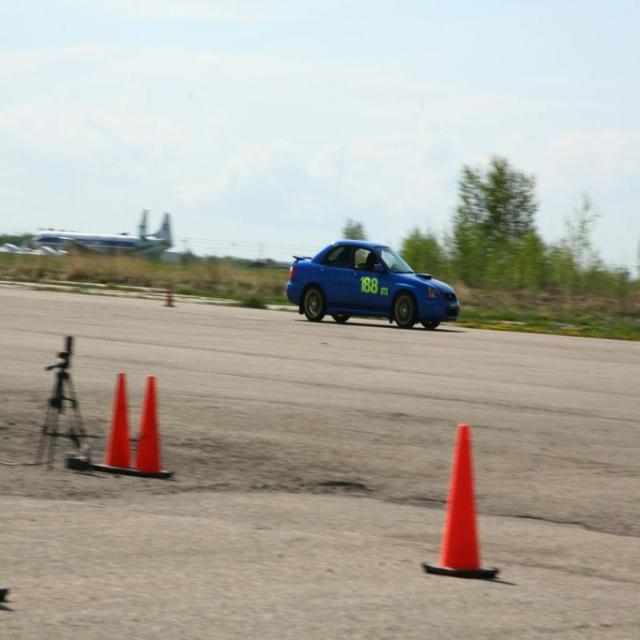car: (283, 230, 452, 335)
